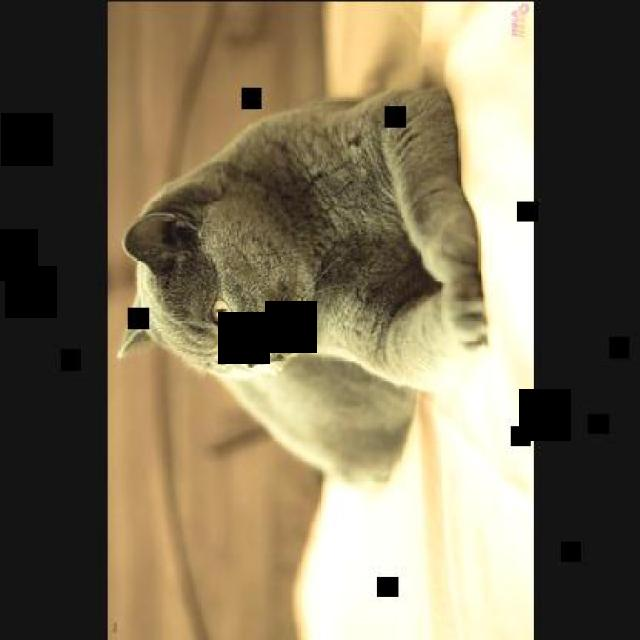unauthorized: (115, 79, 488, 392)
